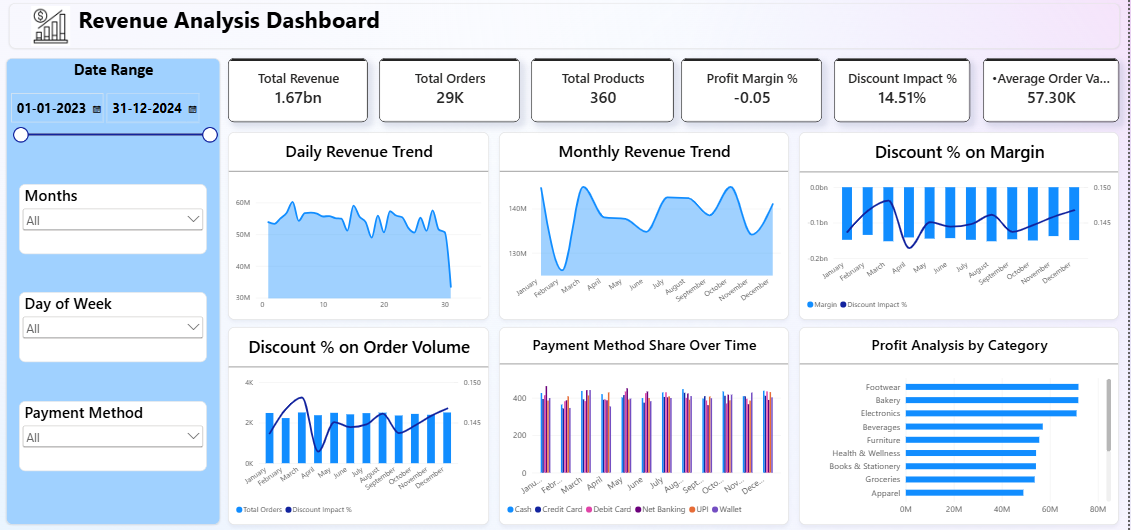

What the dashboard file says about the page in this screenshot:
{"tool":"powerbi","page":{"name":"Revenue Analysis","canvas":[1880,820],"ordinal":5},"visuals":[{"type":"areaChart","title":"Daily Revenue Trend","fields":{"Category":["DateTable.Date.Variation.Date Hierarchy.Day"],"Y":["sales_order_items_cleaned.Total Revenue"]},"box":[379.4,98.4,434.9,336.5],"z":0},{"type":"areaChart","title":"Monthly Revenue Trend","fields":{"Category":["DateTable.Date.Variation.Date Hierarchy.Month"],"Y":["sales_order_items_cleaned.Total Revenue"]},"box":[831.7,100,482.5,334.9],"z":1000},{"type":"lineClusteredColumnComboChart","title":"Discount % on Order Volume","fields":{"Category":["DateTable.Date.Variation.Date Hierarchy.Month"],"Y":["sales_orders_cleaned.Total Orders"],"Y2":["sales_order_items_cleaned.Discount Impact %"]},"box":[379.4,449.2,434.9,354],"z":2000},{"type":"lineClusteredColumnComboChart","title":"Discount % on Margin","fields":{"Category":["DateTable.Date.Variation.Date Hierarchy.Month"],"Y2":["sales_order_items_cleaned.Discount Impact %"],"Y":["sales_order_items_cleaned.Margin"]},"box":[1331.7,98.4,533.3,336.5],"z":3000},{"type":"clusteredColumnChart","title":"Payment Method Share Over Time","fields":{"Y":["sales_orders_cleaned.Order Count"],"Series":["sales_orders_cleaned.payment_method"],"Category":["DateTable.Date.Variation.Date Hierarchy.Month"]},"box":[831.7,454,482.5,349.2],"z":4000},{"type":"clusteredBarChart","title":"Profit Analysis by Category","fields":{"Category":["categories_cleaned.category_name"],"Y":["sales_order_items_cleaned.Total Profit"]},"box":[1331.7,454,533.3,349.2],"z":5000},{"type":"textbox","title":"Retail Sails & Inventory Analysis Dashboard","box":[14.3,7.9,1850.8,76.2],"z":6000},{"type":"slicer","title":"Date Range","fields":{"Values":["sales_orders_cleaned.order_date"]},"box":[9.5,100,357.1,703.2],"z":6001},{"type":"slicer","fields":{"Values":["DateTable.Date.Variation.Date Hierarchy.Month"]},"box":[31.7,309.5,312.7,117.5],"z":6002},{"type":"slicer","fields":{"Values":["sales_orders_cleaned.Week Day"]},"box":[31.7,466.7,312.7,117.5],"z":6003},{"type":"slicer","fields":{"Values":["sales_orders_cleaned.payment_method"]},"box":[31.7,628.6,312.7,117.5],"z":6004},{"type":"image","box":[9.5,98.4,128.6,87.3],"z":6005},{"type":"image","box":[14.3,12.7,139.7,66.7],"z":6006}]}

Visuals, with their boxes on the page's 1880x820 design canvas (x1, y1, x2, y2). These are canvas units, not pixel positions in the 1131x530 screenshot, which may show the page scaled, cropped or inside an application window:
"Daily Revenue Trend" areaChart: (379,98,814,435)
"Monthly Revenue Trend" areaChart: (832,100,1314,435)
"Discount % on Order Volume" lineClusteredColumnComboChart: (379,449,814,803)
"Discount % on Margin" lineClusteredColumnComboChart: (1332,98,1865,435)
"Payment Method Share Over Time" clusteredColumnChart: (832,454,1314,803)
"Profit Analysis by Category" clusteredBarChart: (1332,454,1865,803)
"Retail Sails & Inventory Analysis Dashboard" textbox: (14,8,1865,84)
"Date Range" slicer: (10,100,367,803)
slicer - DateTable.Date.Variation.Date Hierarchy.Month: (32,310,344,427)
slicer - sales_orders_cleaned.Week Day: (32,467,344,584)
slicer - sales_orders_cleaned.payment_method: (32,629,344,746)
image: (10,98,138,186)
image: (14,13,154,79)
